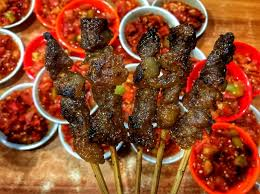sate: (27, 7, 240, 172)
